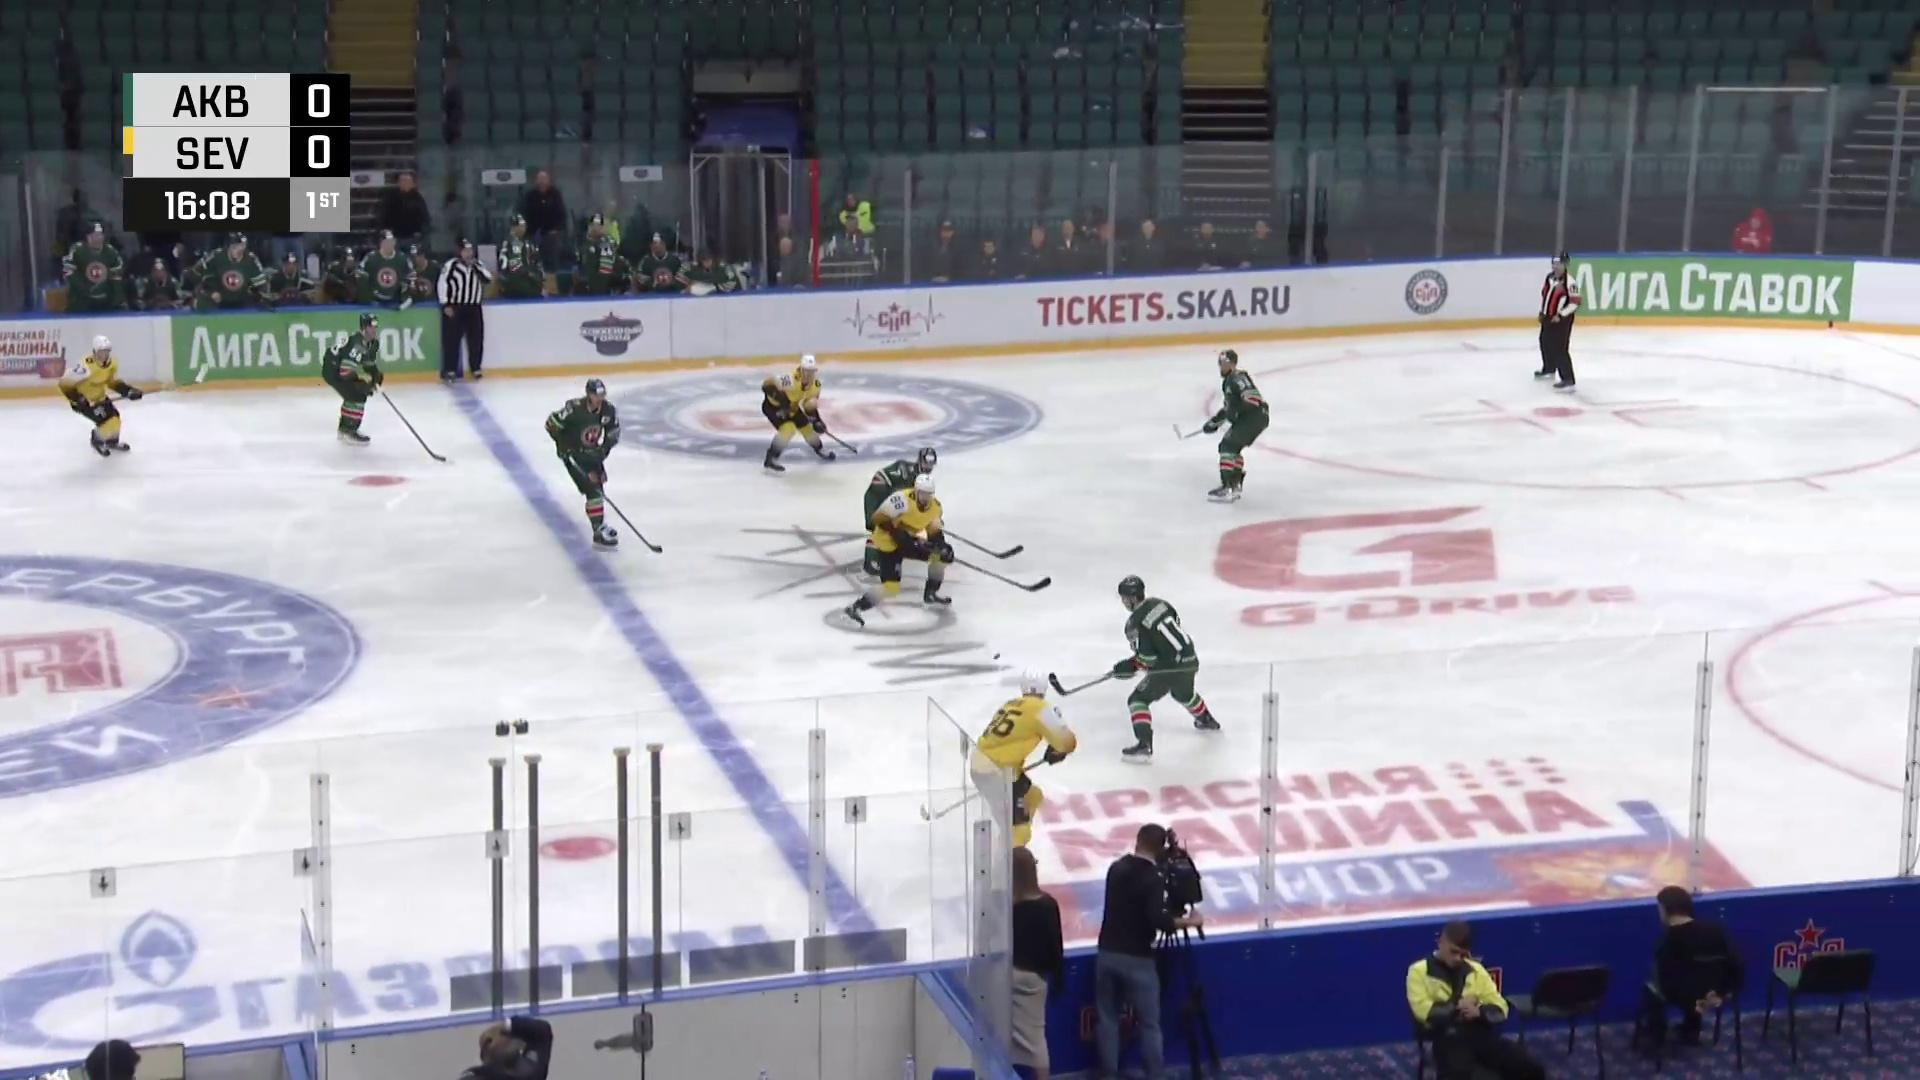ball: (993, 651, 1002, 661)
